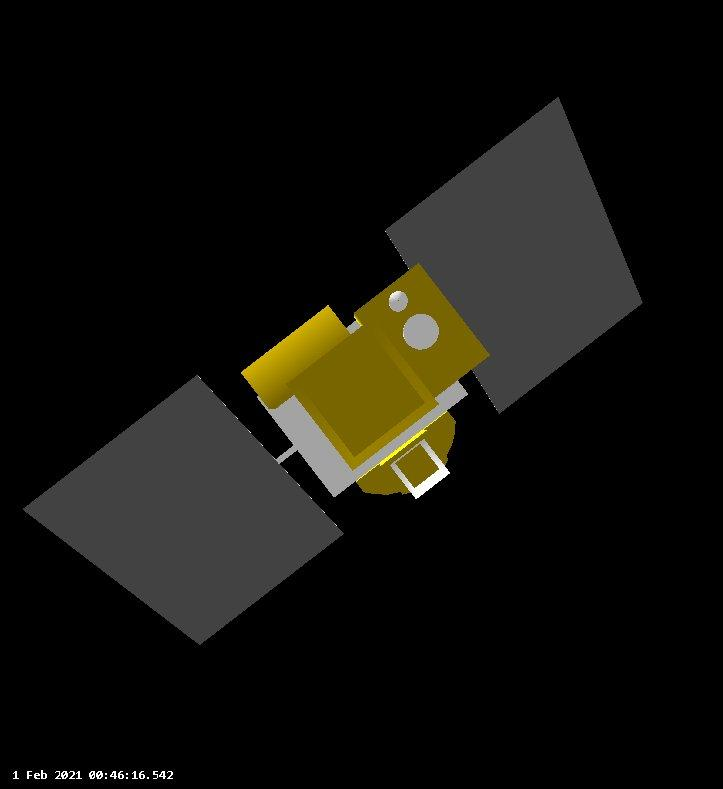antenna: (400, 313, 443, 352), (388, 292, 410, 314)
body: (246, 259, 469, 498)
solar: (23, 371, 349, 649), (385, 91, 646, 416)
thruster: (289, 323, 440, 471), (388, 438, 453, 502)
